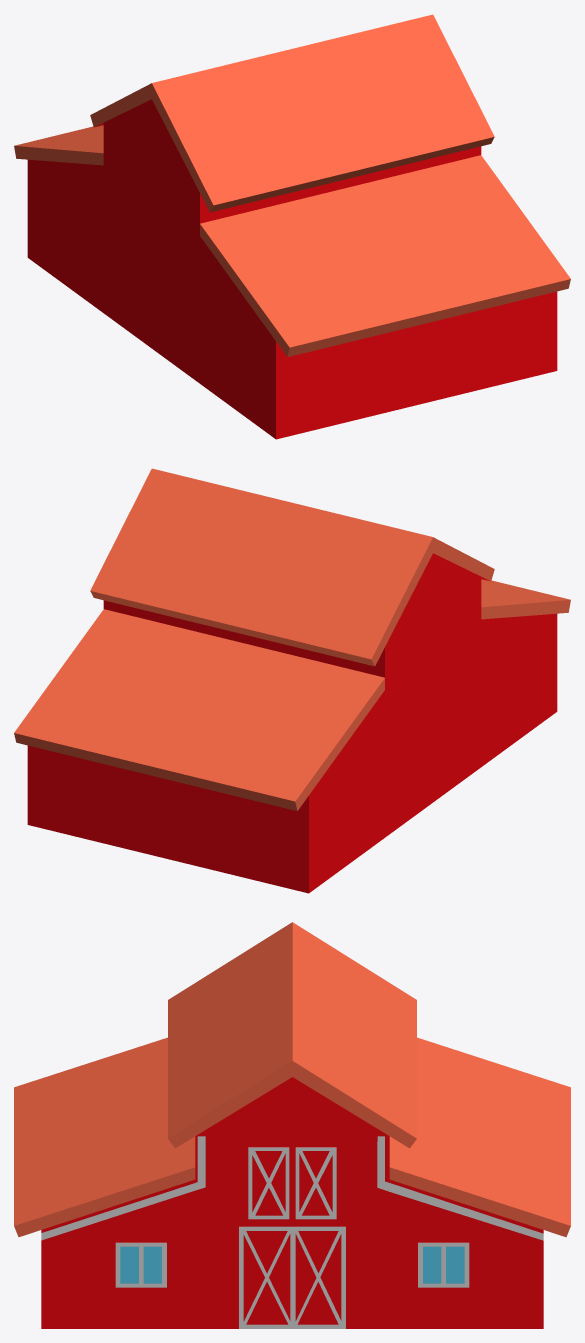
Rendered from vaiPFVR.fbx.
The picture shows the model from 3 angles, top to bottom: view 1: azimuth 30°, elevation 25°; view 2: azimuth 150°, elevation 25°; view 3: azimuth 270°, elevation 25°; orthographic projection.
Parts seen in each view (by area): view 1: Celeruuu; view 2: Celeruuu; view 3: Celeruuu, Celeruuu.001.
Boxes of the visible parts, x1,y1,x2,y2 form: Celeruuu: [14, 14, 570, 439]; Celeruuu: [14, 468, 570, 893]; Celeruuu: [14, 922, 570, 1328]; Celeruuu.001: [115, 1147, 469, 1287].
Size of the model in its own units: 20.17 by 18.15 by 34.16.
